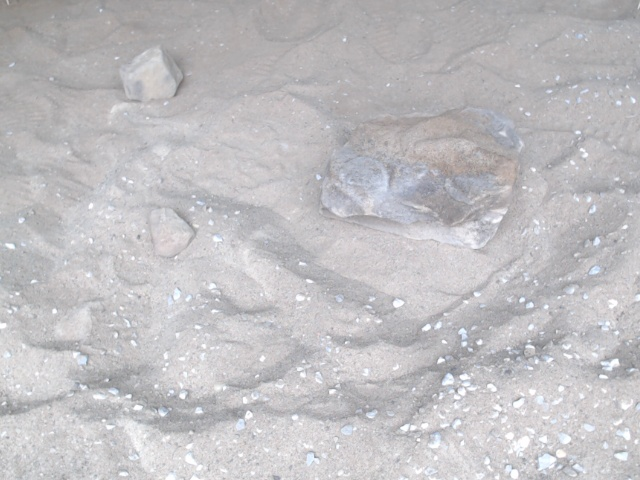rock: (312, 101, 528, 254), (116, 42, 187, 107), (143, 199, 200, 263)
